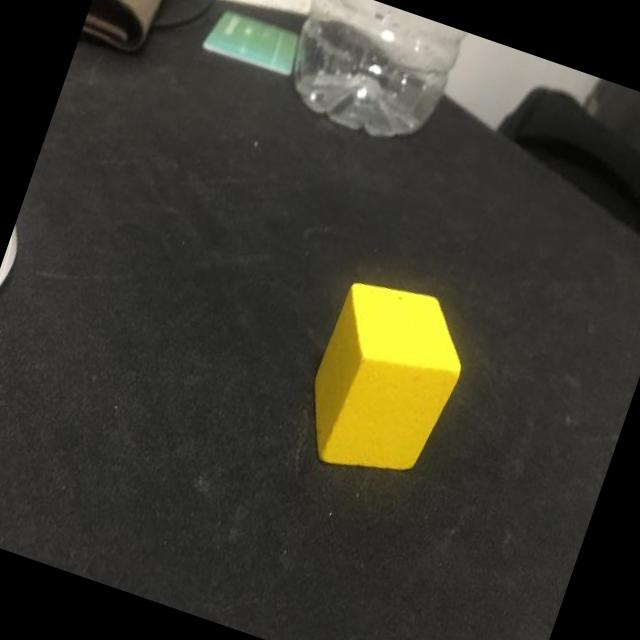yellow: (288, 268, 481, 498)
